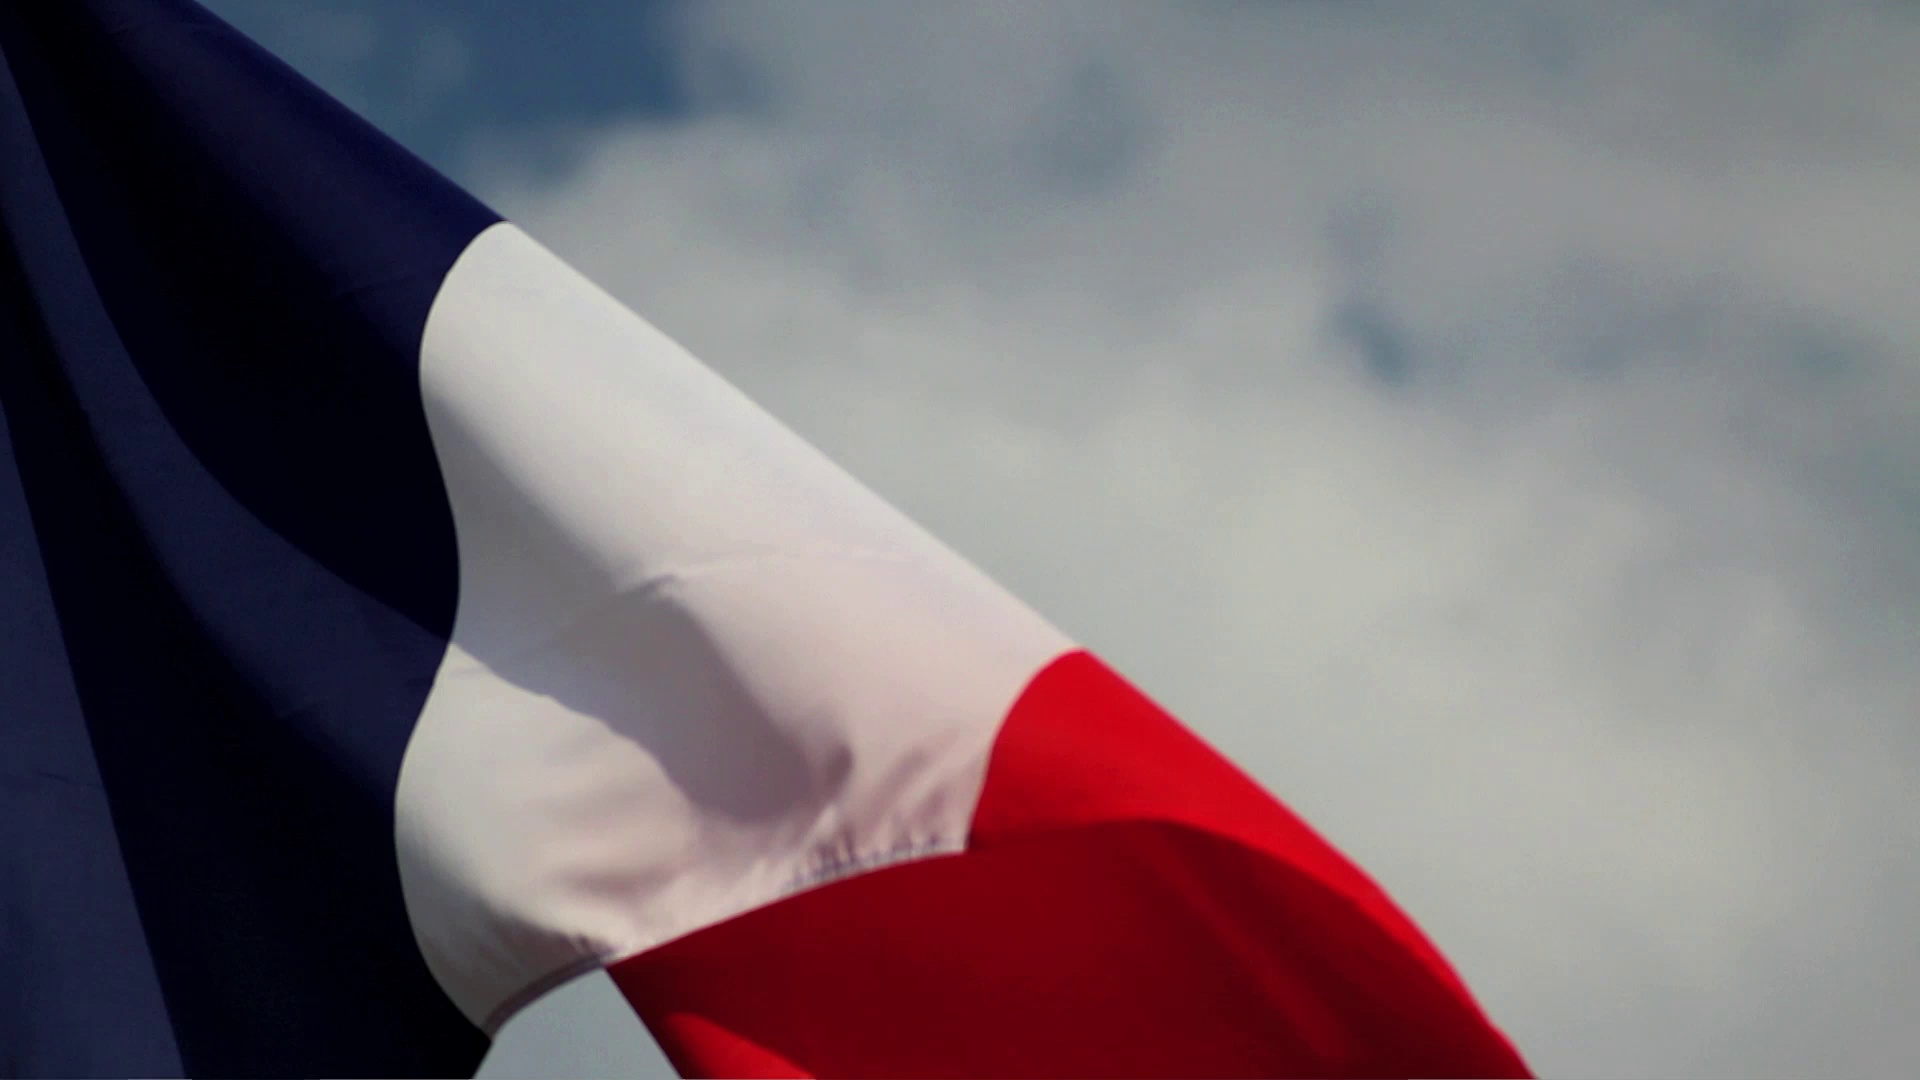French Flag: (1, 1, 1520, 1080)
